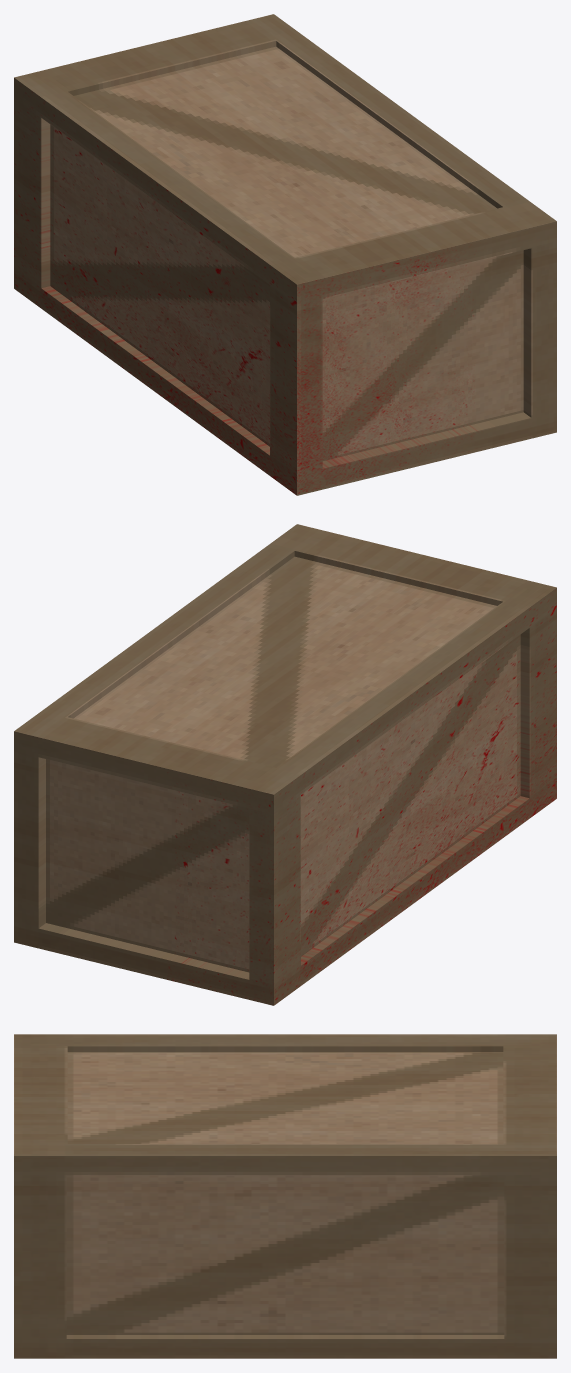
Rendered from woodbox_S.fbx.
The picture shows the model from 3 angles, top to bottom: view 1: azimuth 30°, elevation 25°; view 2: azimuth 150°, elevation 25°; view 3: azimuth 270°, elevation 25°; orthographic projection. The views are drawn at different scales.
Visible parts, largest first — view 1: Cube; view 2: Cube; view 3: Cube.
Part boxes in pixels (x1,y1,x2,y2): Cube: (14, 14, 556, 495); Cube: (14, 524, 556, 1005); Cube: (14, 1034, 556, 1358).
Size of the model in its own units: 106 by 82.32 by 200.
